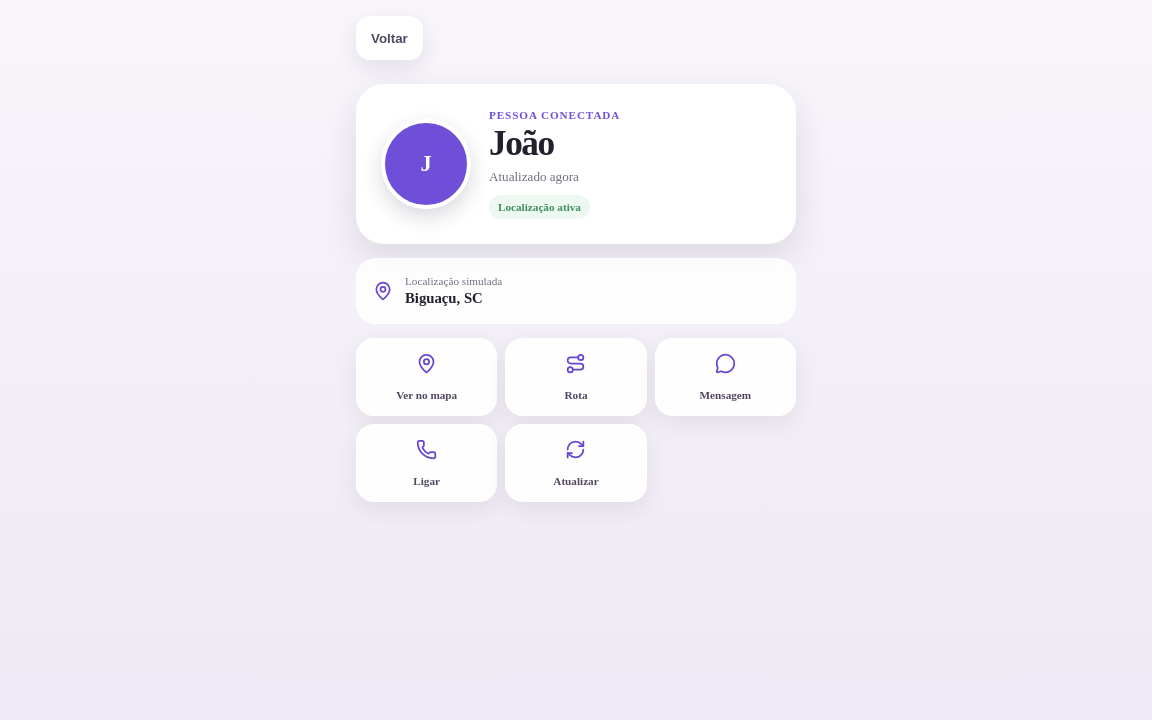
PersonDetailPage › mostra feedback local para Mensagem
The image size is (1152, 720).
Click the button "Mensagem": (725, 377) left=655, top=338, right=796, bottom=416
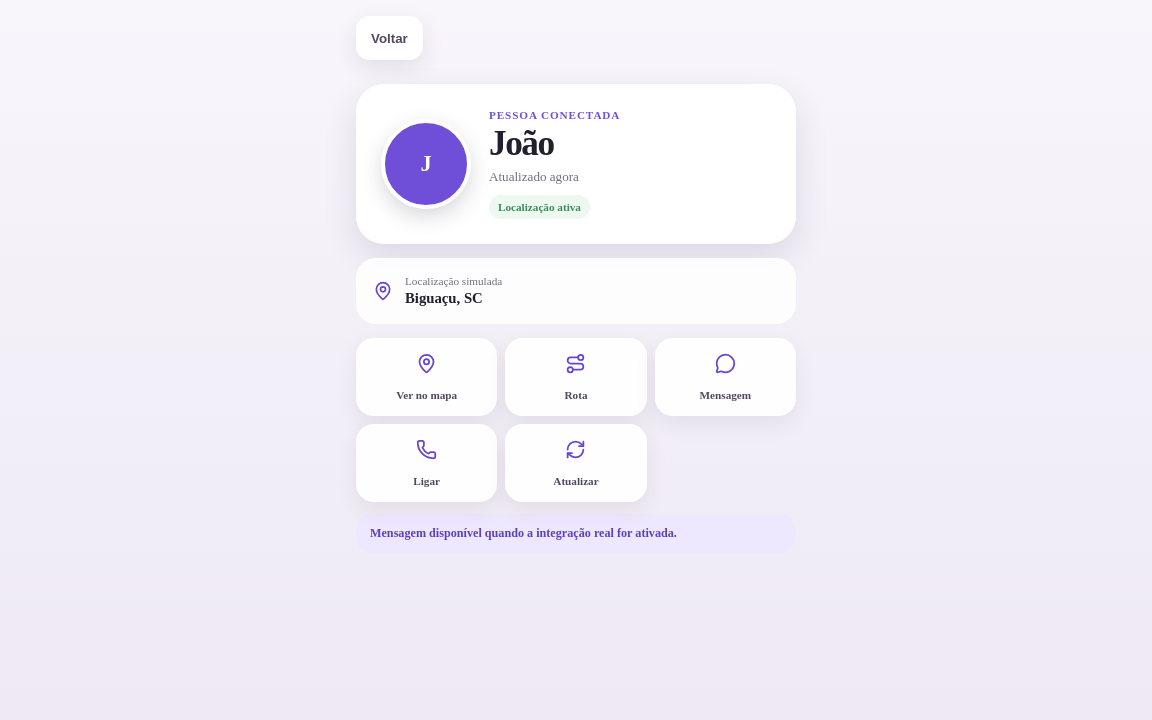
Now the message reads "Mensagem disponível quando a integração real for ativada.", box left=370, top=526, right=677, bottom=540
